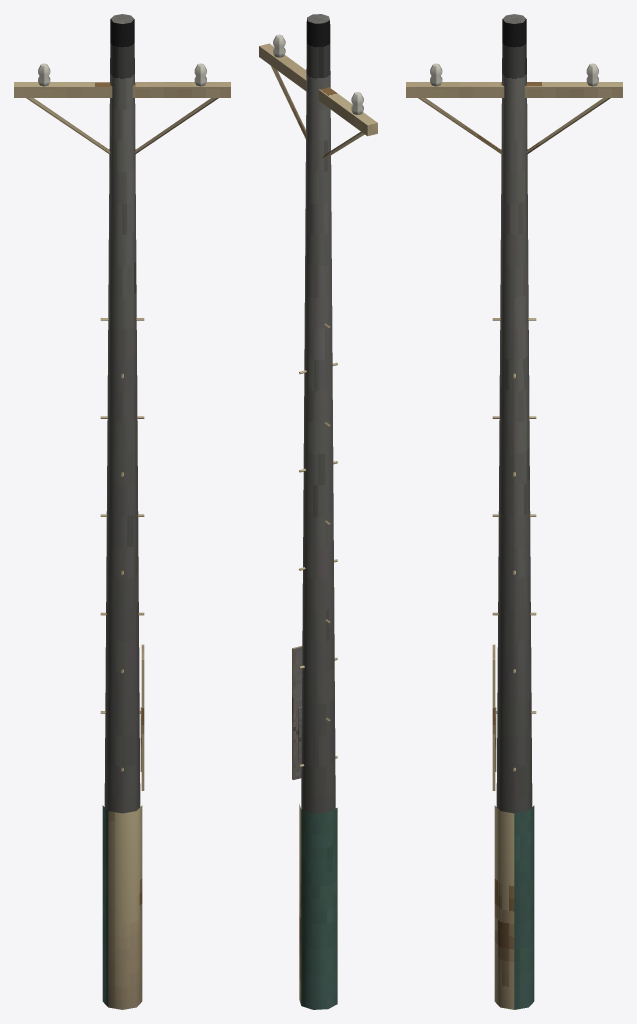
Rendered from utility_pole.glb.
The picture shows the model from 3 angles, left to right: view 1: azimuth 90°, elevation 25°; view 2: azimuth 210°, elevation 25°; view 3: azimuth 270°, elevation 25°; orthographic projection.
Visible parts, largest first — view 1: utility_pole; view 2: utility_pole; view 3: utility_pole.
Boxes of the visible parts, box(x1,y1,x2,y2) form: utility_pole: box(14, 14, 230, 1009); utility_pole: box(259, 14, 377, 1009); utility_pole: box(406, 14, 622, 1009).
Size of the model in its own units: 0.36 by 9 by 1.8.
